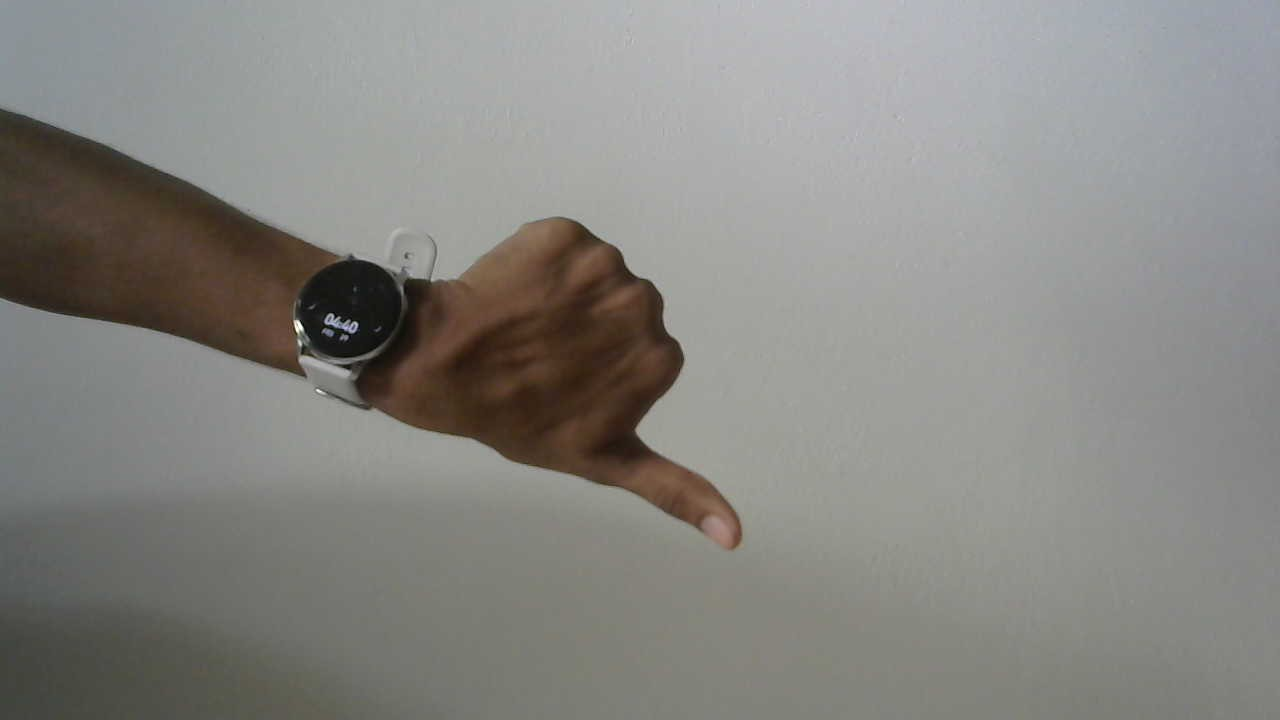thumbsdown: (433, 187, 775, 586)
